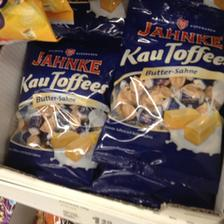Suessigkeit: (10, 23, 118, 177), (124, 7, 220, 180)
